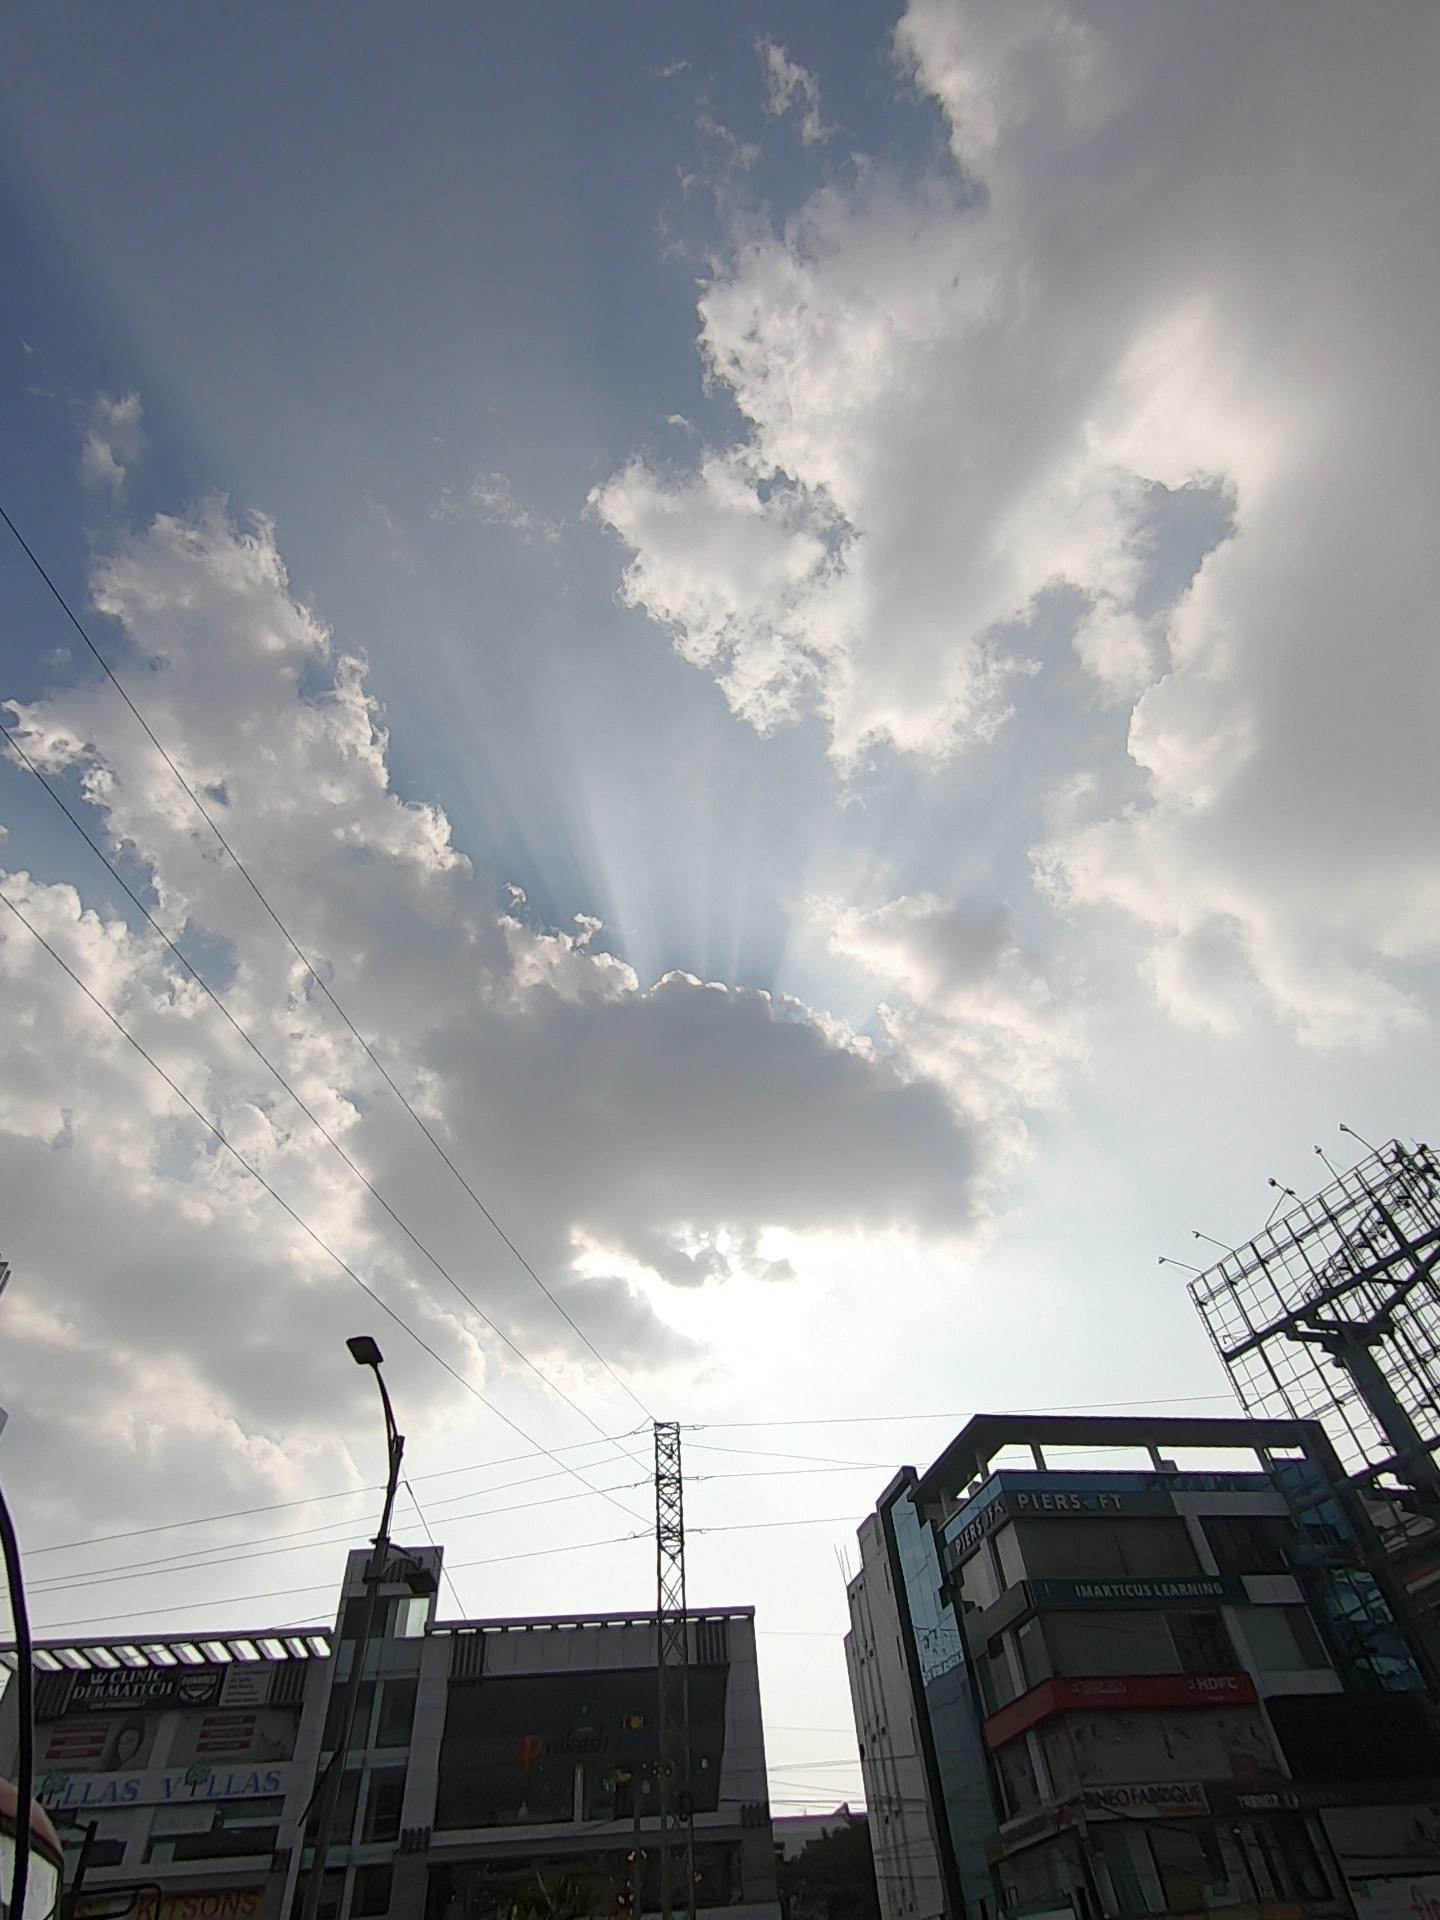off: (260, 1261, 496, 1711)
